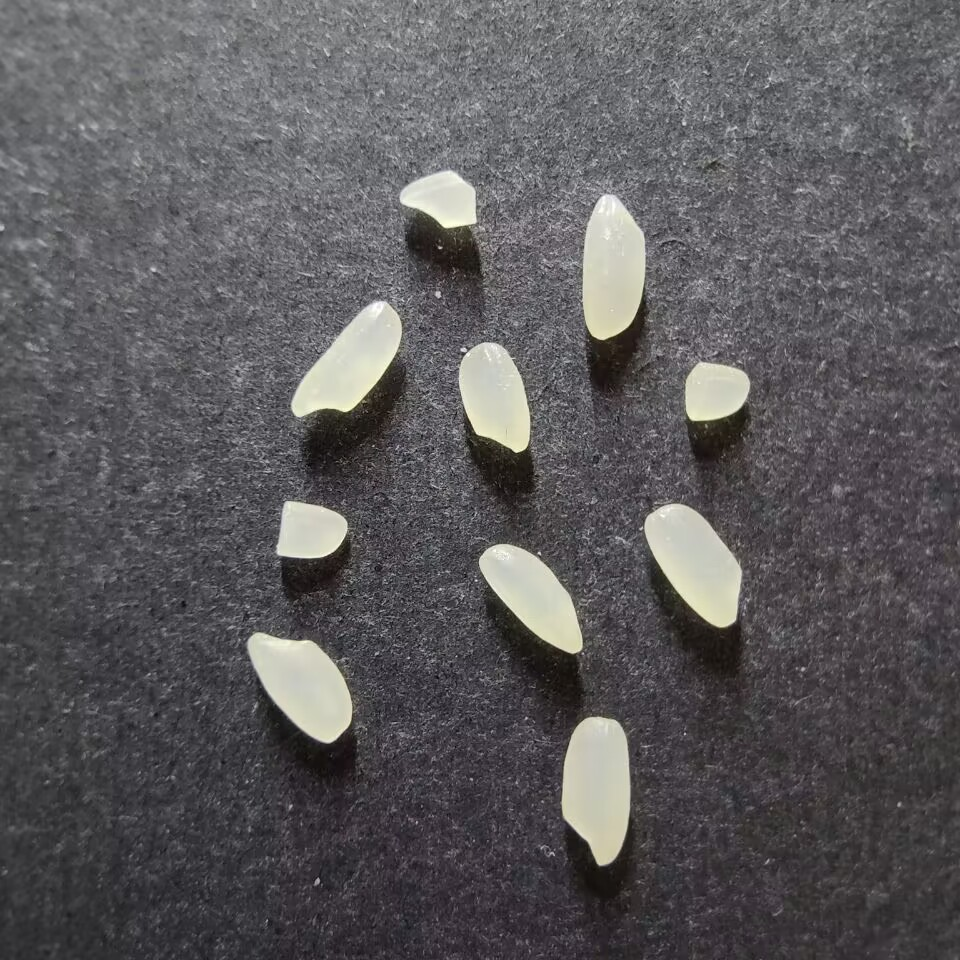broken: (399, 170, 477, 229), (275, 501, 348, 559), (683, 362, 750, 422)
rice: (290, 301, 402, 416), (644, 503, 741, 628), (246, 631, 352, 743), (477, 543, 583, 654), (560, 716, 629, 866), (581, 195, 646, 340), (458, 342, 530, 453)
